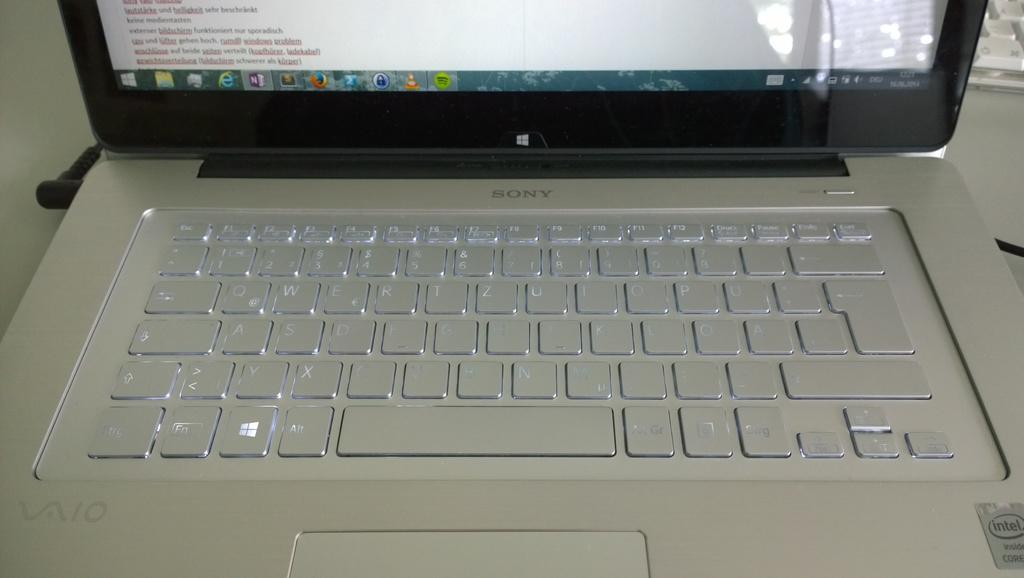Computer-keyboard: (84, 222, 955, 458)
